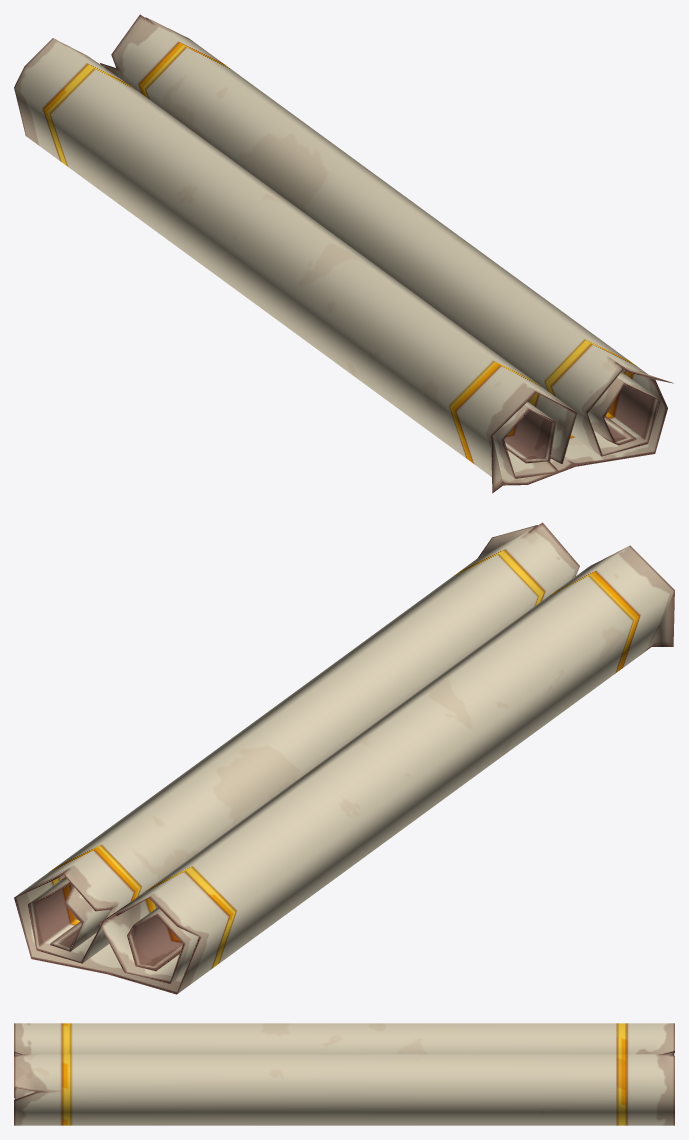
File: Parchemin_avec_anim.fbx
3 views of the same model, one above another, from view 1: azimuth 30°, elevation 25°; view 2: azimuth 150°, elevation 25°; view 3: azimuth 270°, elevation 25° (orthographic). The views are drawn at different scales.
Visible parts, largest first — view 1: PARCHEMIN_ANIM; view 2: PARCHEMIN_ANIM; view 3: PARCHEMIN_ANIM.
Part boxes in pixels (x1,y1,x2,y2): PARCHEMIN_ANIM: (14, 14, 673, 493); PARCHEMIN_ANIM: (14, 522, 674, 994); PARCHEMIN_ANIM: (14, 1023, 674, 1125).
Bounding box in the file's own units: 21.99 × 10.71 × 100.
